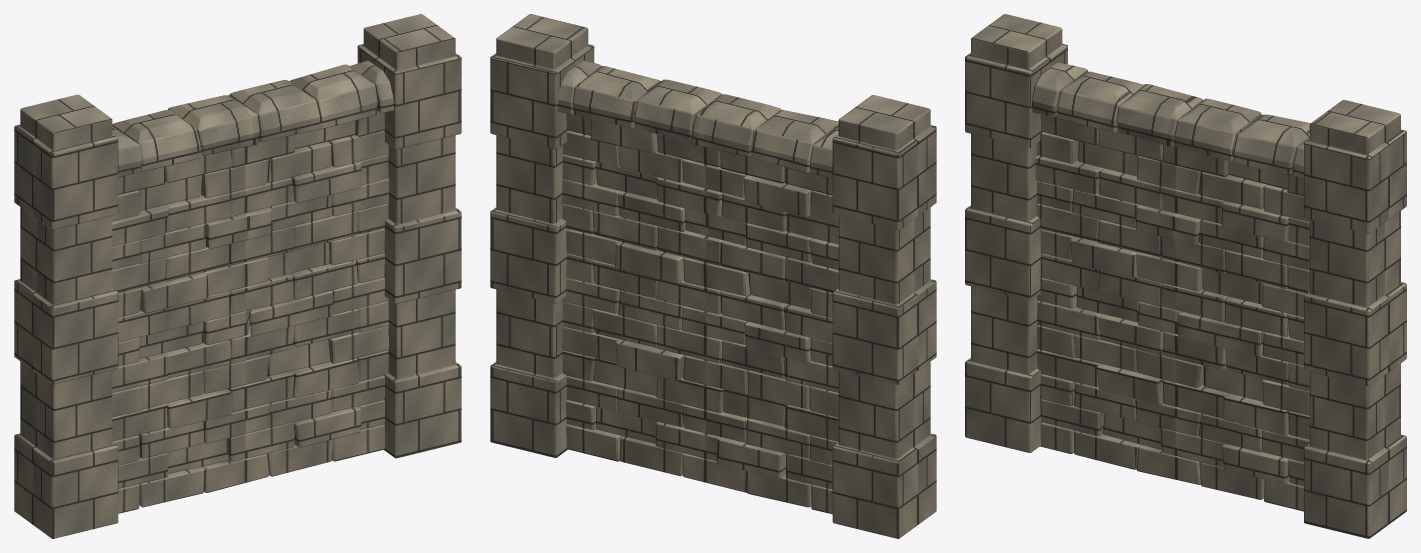
The model's file is Valoria_ASF_SourceWall_v2.glb.
3 renders of one model, left to right at view 1: azimuth 30°, elevation 25°; view 2: azimuth 150°, elevation 25°; view 3: azimuth 330°, elevation 25°, orthographic.
Parts seen in each view (by area): view 1: Stone_Wall, Stone_Wall_Pillar_Right, Stone_Wall_Pillar_Left; view 2: Stone_Wall, Stone_Wall_Pillar_Right, Stone_Wall_Pillar_Left; view 3: Stone_Wall, Stone_Wall_Pillar_Left, Stone_Wall_Pillar_Right.
Boxes of the visible parts, left/top/right/bottom form: Stone_Wall: left=112, top=60, right=393, bottom=513; Stone_Wall_Pillar_Right: left=14, top=94, right=118, bottom=538; Stone_Wall_Pillar_Left: left=357, top=14, right=461, bottom=458; Stone_Wall: left=557, top=60, right=838, bottom=514; Stone_Wall_Pillar_Right: left=832, top=95, right=936, bottom=538; Stone_Wall_Pillar_Left: left=490, top=14, right=594, bottom=457; Stone_Wall: left=1032, top=62, right=1310, bottom=511; Stone_Wall_Pillar_Left: left=1304, top=100, right=1406, bottom=538; Stone_Wall_Pillar_Right: left=965, top=14, right=1067, bottom=452.
Size of the model in its own units: 5.25 by 4.98 by 0.8647.
Materials: 1 (1 with a texture image).
